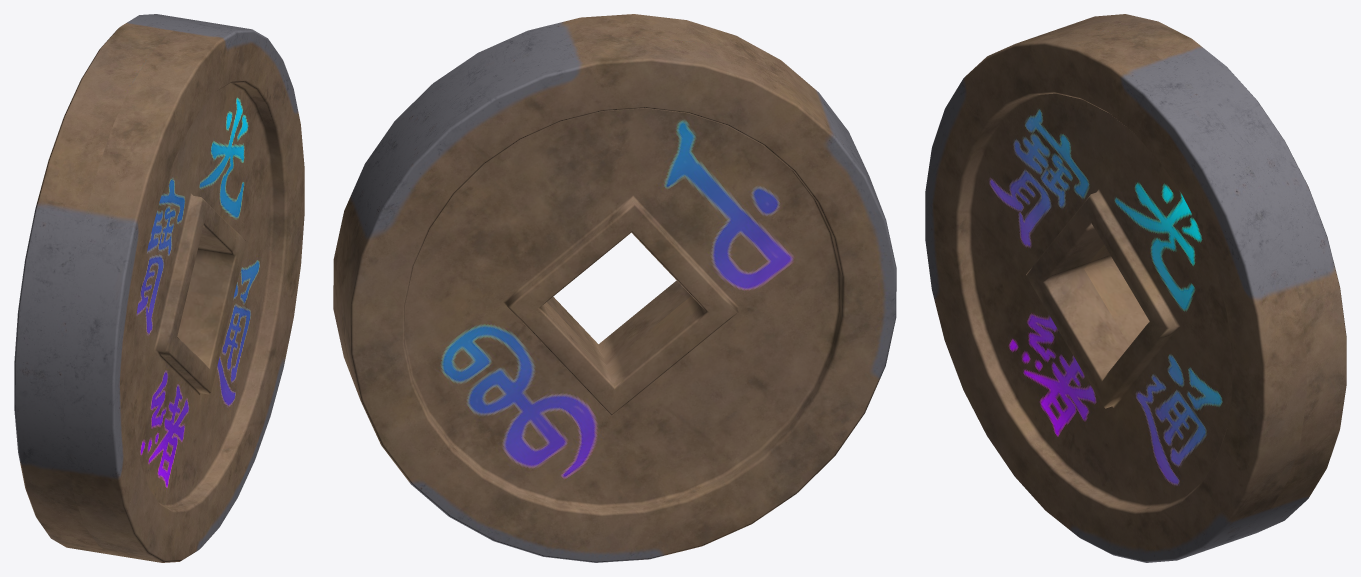
File: Moneda2.fbx
3 views of the same model, side by side, from view 1: azimuth 30°, elevation 25°; view 2: azimuth 150°, elevation 25°; view 3: azimuth 270°, elevation 25° (orthographic). The views are drawn at different scales.
Parts seen in each view (by area): view 1: Cylinder; view 2: Cylinder; view 3: Cylinder.
Part boxes in pixels (x1=…): Cylinder: x1=14, y1=14, x2=304, y2=562; Cylinder: x1=333, y1=14, x2=896, y2=562; Cylinder: x1=925, y1=14, x2=1346, y2=562.
Bounding box in the file's own units: 403 × 450 × 352.
